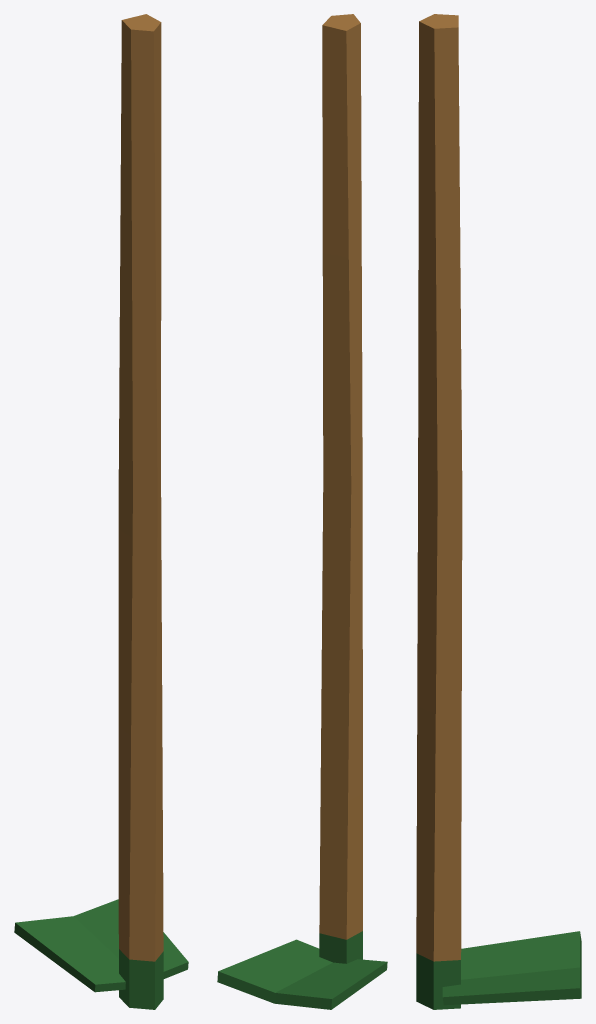
Rendered from tools_garden-hoe.fbx.
3 renders of one model, left to right at view 1: azimuth 30°, elevation 25°; view 2: azimuth 150°, elevation 25°; view 3: azimuth 270°, elevation 25°, orthographic. The views are drawn at different scales.
Visible parts, largest first — view 1: tools_garden_hoe; view 2: tools_garden_hoe; view 3: tools_garden_hoe.
Part boxes in pixels (x1,y1,x2,y2): tools_garden_hoe: (14, 14, 188, 1009); tools_garden_hoe: (217, 14, 387, 1009); tools_garden_hoe: (416, 14, 581, 1009).
Size of the model in its own units: 24.93 by 200 by 30.49.
